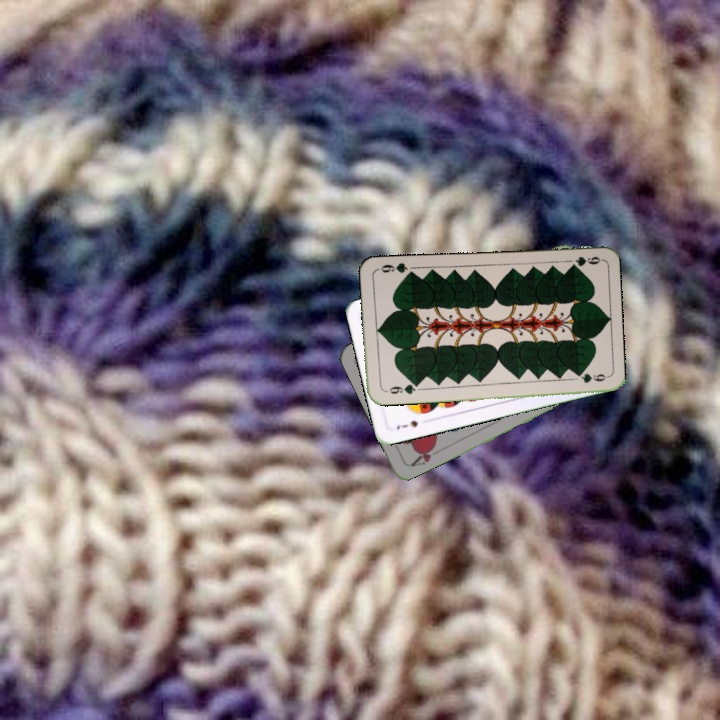G9: (380, 379, 420, 397), (566, 252, 603, 271)
HA: (407, 441, 438, 469)
S7: (392, 416, 421, 432)
